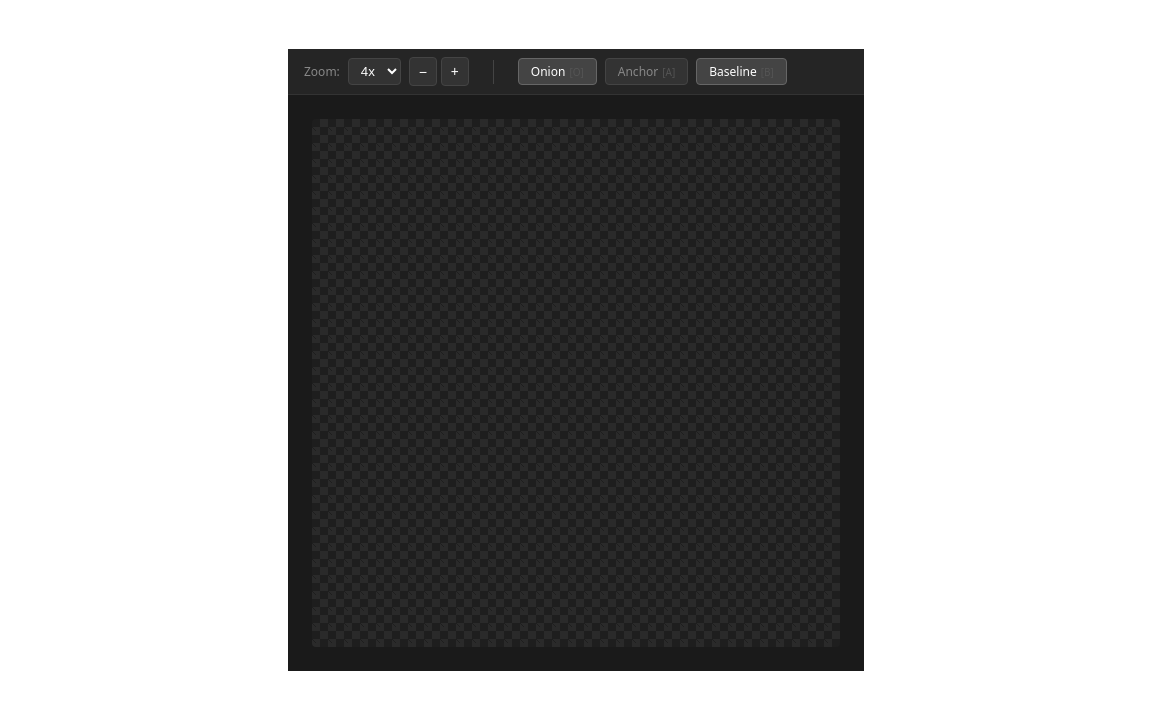
Stage Component (Story 7.3) › Zoom Controls (AC #6) › should zoom in when + button clicked
expect the dropdown named "zoom level" shows "4x": met, box [348,58,401,85]
Click the button named "zoom in" at (455, 72), box [441,57,469,86]
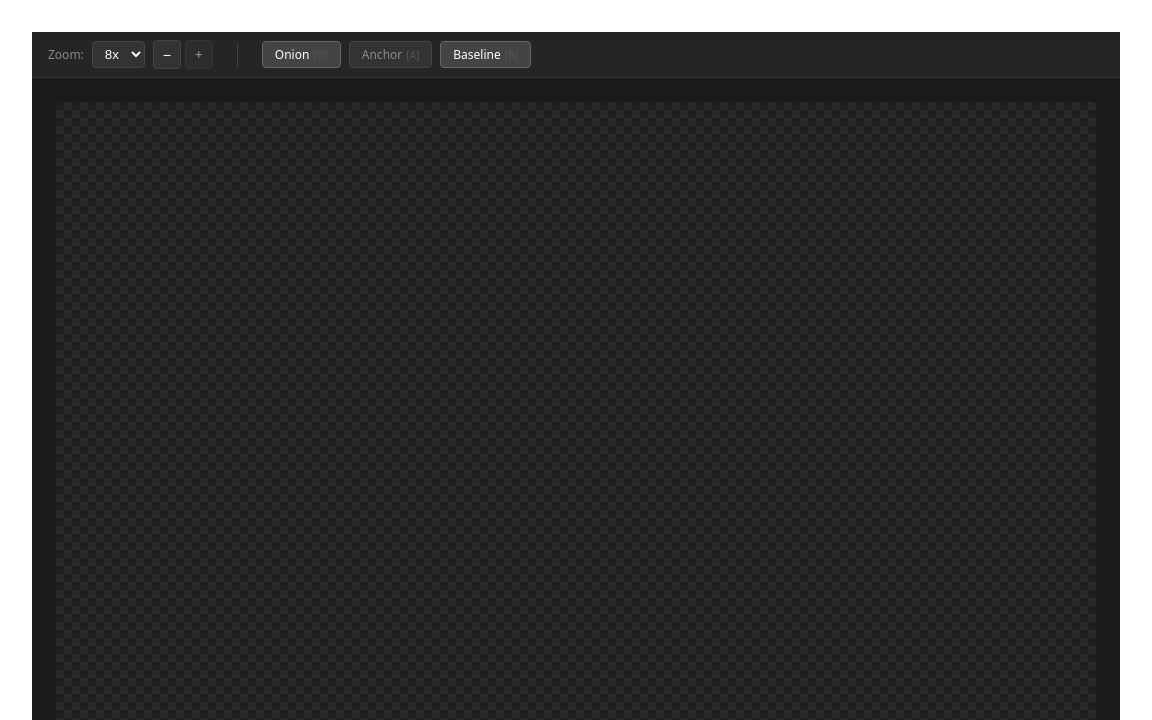
expect the dropdown named "zoom level" shows "8x": met, box [92,41,145,68]
